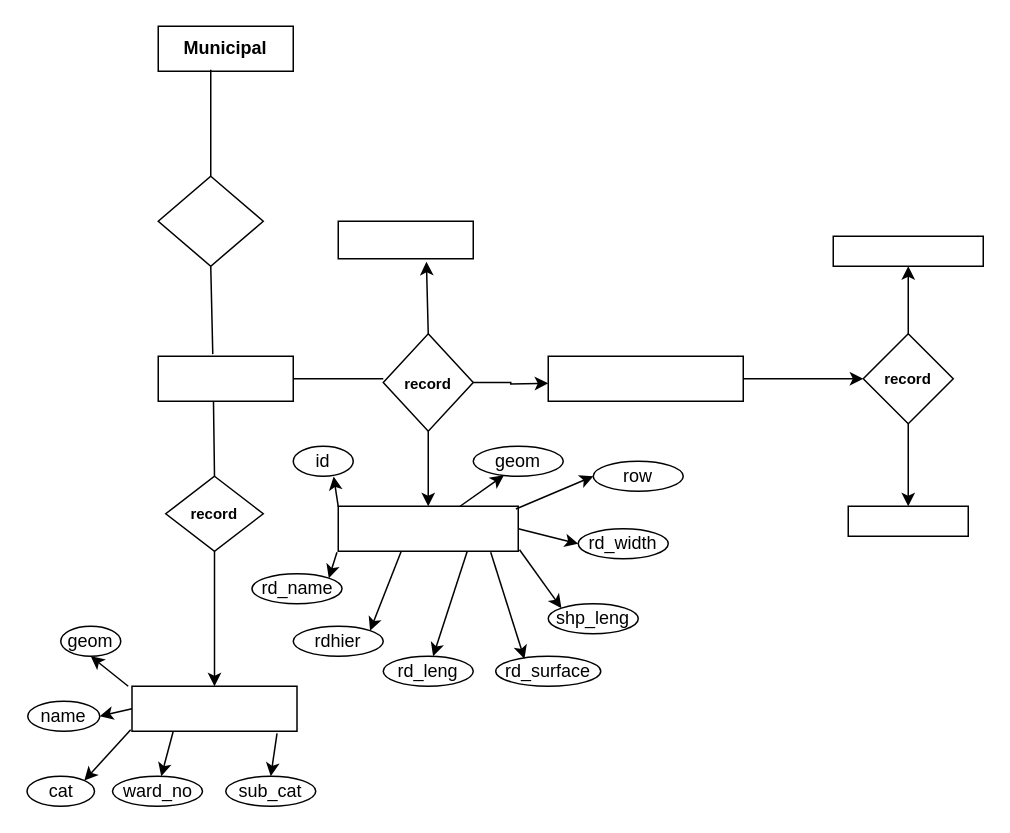
Image size: 1010x833. Some labels were removed from this diagram. The box of each missing label's shape, as (x1, y1, x2, y2) in pixels:
Buildings: (130, 685, 297, 731)
has: (157, 175, 263, 266)
Land Use: (337, 220, 473, 259)
SYSTEM: (157, 355, 293, 401)
Telecom: (847, 505, 968, 536)
Transformer: (832, 235, 983, 266)
Transportnation: (337, 505, 518, 551)
Utility Infrastructure: (547, 355, 743, 401)
